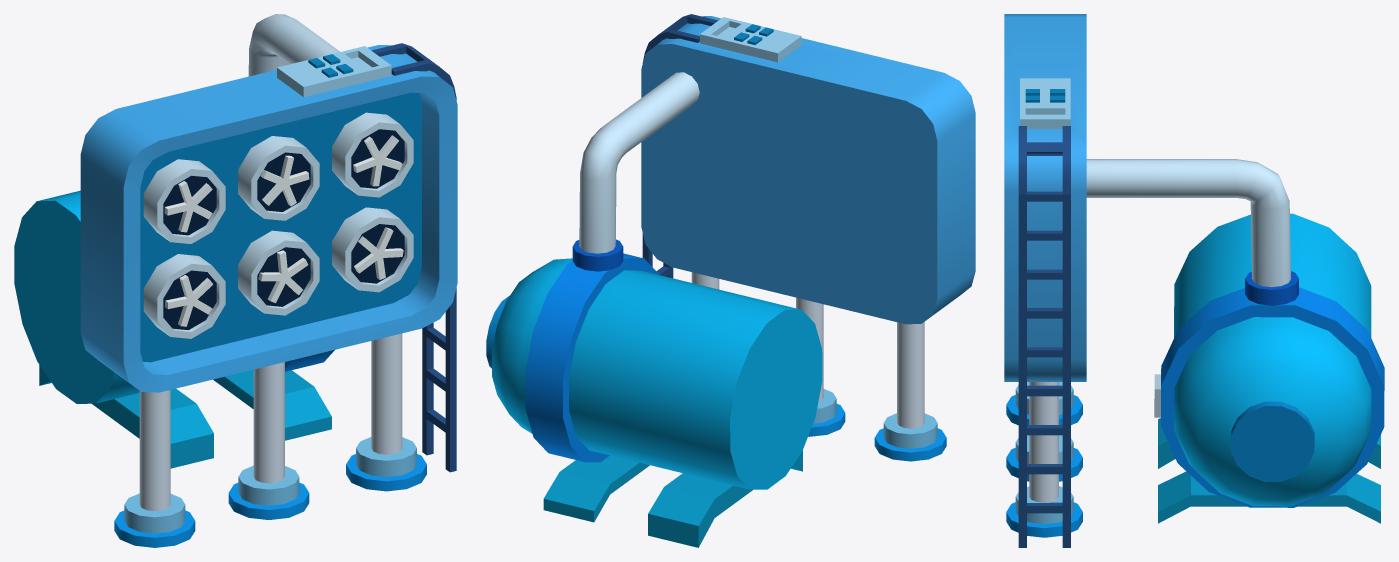
Rendered from 2026-1-9-CarbonCapture-v045.fbx.
The picture shows the model from 3 angles, left to right: view 1: azimuth 30°, elevation 25°; view 2: azimuth 150°, elevation 25°; view 3: azimuth 270°, elevation 25°; orthographic projection. The views are drawn at different scales.
Visible parts, largest first — view 1: Cube.003, Cylinder, Cube.004, Cube.001, Cylinder.006, Cylinder.003, Cylinder.014, Cylinder.001, Cube, Cylinder.007, Cylinder.012, Cylinder.009 (+21 smaller); view 2: Cube.003, Cylinder, Cylinder.002, Cylinder.001, Cube.001, Cube, Cylinder.006, Cylinder.015, Cube.004, Cylinder.005, Cylinder.024, Cylinder.014; view 3: Cylinder, Cube.003, Cube.004, Cylinder.001, Cylinder.002, Cube, Cylinder.003, Cylinder.024, Cylinder.004, Cube.001, Cylinder.017, Cylinder.005 (+1 smaller).
Part boxes in pixels (x1,y1,x2,y2): Cube.003: (80, 45, 457, 392); Cylinder: (14, 190, 139, 403); Cube.004: (371, 43, 456, 472); Cube.001: (39, 365, 213, 468); Cylinder.006: (139, 390, 170, 511); Cylinder.003: (371, 333, 402, 454); Cylinder.014: (253, 362, 284, 483); Cylinder.001: (248, 14, 340, 76); Cube: (213, 369, 331, 440); Cylinder.007: (143, 159, 225, 243); Cylinder.012: (143, 254, 225, 338); Cylinder.009: (332, 112, 413, 197); Cube.003: (641, 16, 975, 324); Cylinder: (486, 258, 822, 489); Cylinder.002: (525, 253, 659, 462); Cylinder.001: (579, 72, 699, 253); Cube.001: (648, 450, 802, 547); Cube: (543, 455, 649, 522); Cylinder.006: (897, 322, 924, 428); Cylinder.015: (883, 413, 937, 448); Cube.004: (642, 14, 718, 278); Cylinder.005: (874, 428, 946, 461); Cylinder.024: (572, 239, 623, 271); Cylinder.014: (796, 297, 823, 402); Cylinder: (1174, 213, 1371, 506); Cube.003: (1004, 14, 1086, 381); Cube.004: (1018, 126, 1070, 547); Cylinder.001: (1086, 159, 1290, 287); Cylinder.002: (1154, 287, 1384, 507); Cube: (1158, 471, 1380, 523); Cylinder.003: (1029, 382, 1058, 502); Cylinder.024: (1245, 271, 1298, 305); Cylinder.004: (1006, 502, 1082, 537); Cube.001: (1158, 418, 1380, 468); Cylinder.017: (1015, 486, 1073, 524); Cylinder.005: (1006, 395, 1082, 425).
Size of the model in its own units: 295 by 307 by 264.
